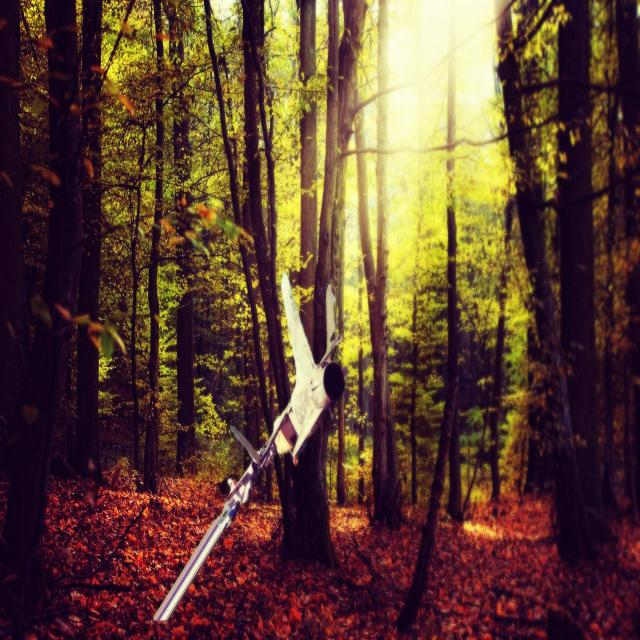airplane: (152, 271, 347, 623)
